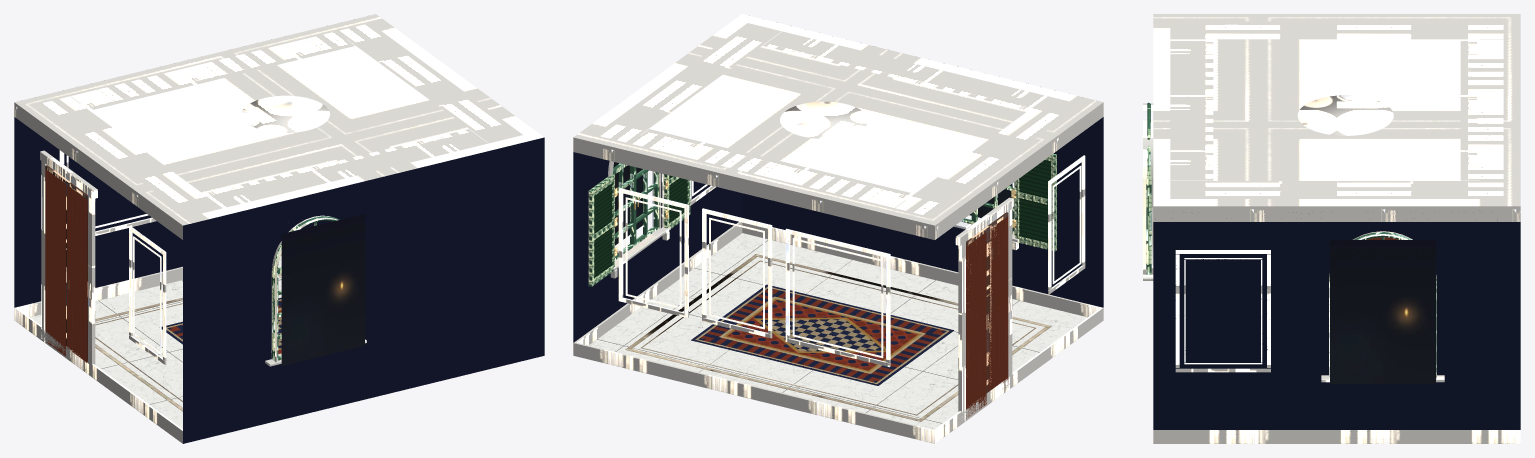
The model's file is room-preview.glb.
The picture shows the model from 3 angles, left to right: view 1: azimuth 30°, elevation 25°; view 2: azimuth 150°, elevation 25°; view 3: azimuth 270°, elevation 25°; orthographic projection. The views are drawn at different scales.
Parts seen in each view (by area): view 1: Shell_Front Wall, Shell_Ceiling, LM_DropCeiling, Night_Night.001, Shell_Back Wall, LM_Door, Shell_Floor, LM_Skirting, LM_CeilingRose, LM_Cornice, LM_Panels, LM_RevealF (+2 smaller); view 2: Shell_Ceiling, Shell_Floor, LM_DropCeiling, Shell_Front Wall, LM_Skirting, Shell_Rug, LM_Panels, LM_Door, Shell_Right Wall, LM_Cornice, LM_ShuttersR, LM_Inlay (+6 smaller); view 3: Shell_Right Wall, Shell_Ceiling, LM_DropCeiling, Night_Night, LM_Cornice, LM_Skirting, LM_CeilingRose, LM_Panels, LM_RevealF, LM_RevealR, LM_FrameF, LM_FrameR.
Part boxes in pixels (left/top/right/bottom): Shell_Front Wall: left=183, top=137, right=544, bottom=443; Shell_Ceiling: left=14, top=14, right=544, bottom=225; LM_DropCeiling: left=36, top=23, right=522, bottom=216; Night_Night.001: left=281, top=213, right=364, bottom=365; Shell_Back Wall: left=14, top=117, right=331, bottom=307; LM_Door: left=40, top=150, right=97, bottom=374; Shell_Floor: left=30, top=256, right=281, bottom=428; LM_Skirting: left=14, top=247, right=281, bottom=443; LM_CeilingRose: left=241, top=95, right=329, bottom=132; LM_Cornice: left=14, top=102, right=182, bottom=239; LM_Panels: left=59, top=150, right=166, bottom=364; LM_RevealF: left=265, top=206, right=366, bottom=366; Shell_Ceiling: left=573, top=14, right=1103, bottom=225; Shell_Floor: left=589, top=233, right=1087, bottom=429; LM_DropCeiling: left=595, top=23, right=1081, bottom=216; Shell_Front Wall: left=742, top=117, right=1103, bottom=307; LM_Skirting: left=573, top=222, right=1103, bottom=443; Shell_Rug: left=691, top=284, right=953, bottom=385; LM_Panels: left=618, top=155, right=1085, bottom=367; LM_Door: left=955, top=197, right=1013, bottom=422; Shell_Right Wall: left=573, top=152, right=741, bottom=342; LM_Cornice: left=573, top=102, right=1103, bottom=239; LM_ShuttersR: left=588, top=174, right=690, bottom=286; LM_Inlay: left=625, top=254, right=1051, bottom=421; Shell_Right Wall: left=1153, top=222, right=1520, bottom=429; Shell_Ceiling: left=1153, top=14, right=1520, bottom=206; LM_DropCeiling: left=1170, top=21, right=1503, bottom=198; Night_Night: left=1330, top=240, right=1435, bottom=383; LM_Cornice: left=1153, top=206, right=1520, bottom=221; LM_Skirting: left=1153, top=430, right=1520, bottom=443; LM_CeilingRose: left=1297, top=95, right=1393, bottom=135; LM_Panels: left=1175, top=250, right=1270, bottom=372; LM_RevealF: left=1143, top=103, right=1153, bottom=280; LM_RevealR: left=1321, top=231, right=1444, bottom=382; LM_FrameF: left=1146, top=102, right=1151, bottom=274; LM_FrameR: left=1329, top=232, right=1436, bottom=377.
Size of the model in its own units: 5.44 by 3 by 4.44.
Materials: 38 (13 with a texture image).
